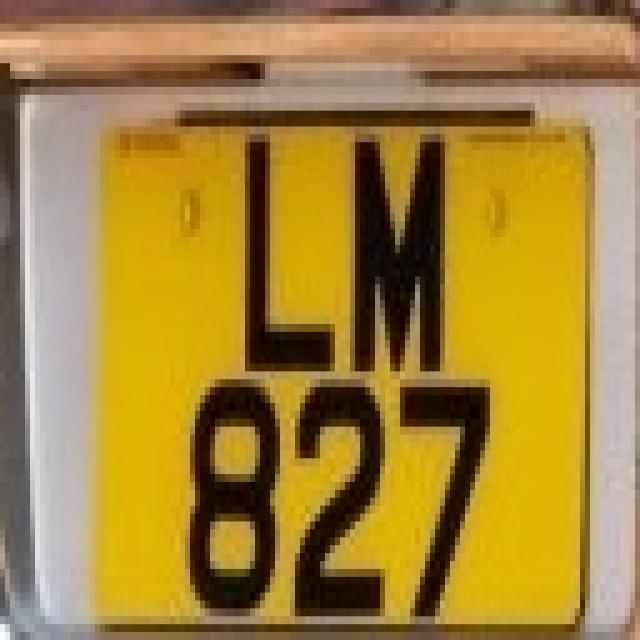2: (275, 364, 390, 616)
7: (380, 364, 500, 616)
8: (165, 364, 280, 608)
L: (225, 110, 335, 372)
M: (330, 110, 455, 372)
